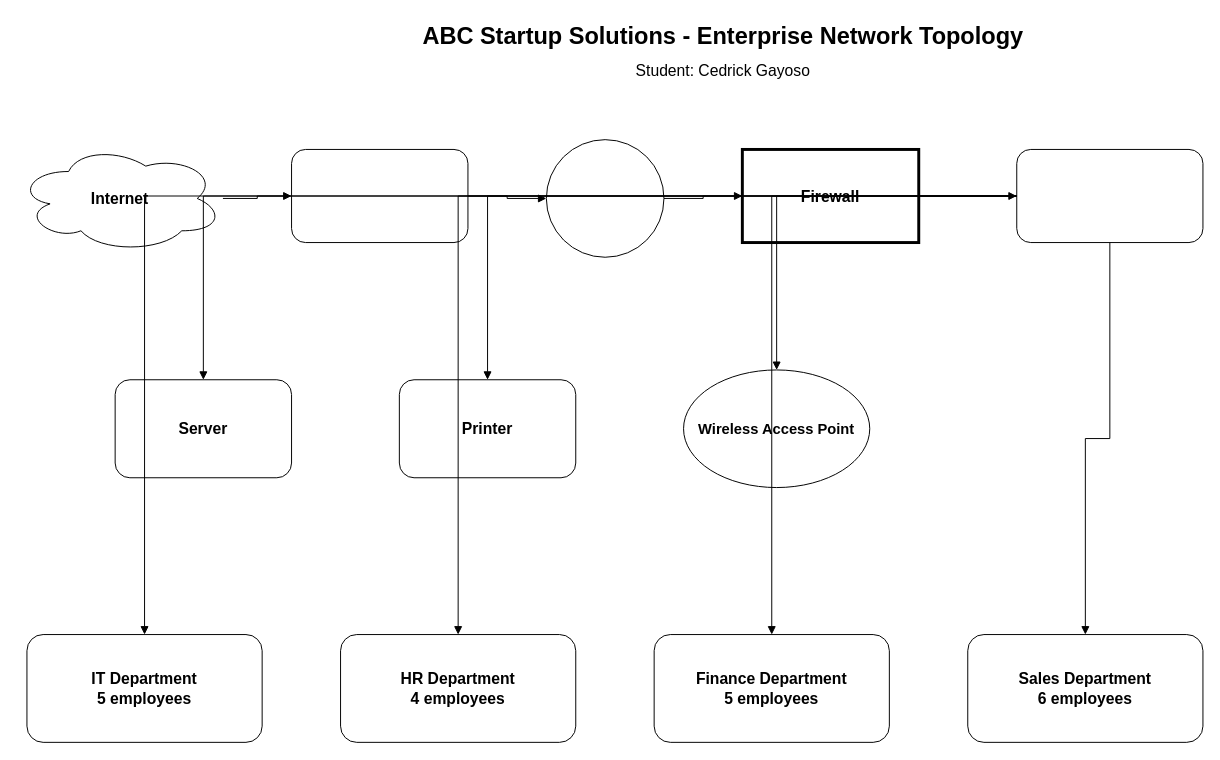
The diagram is 1220 pixels wide and 760 high, and some of its shapes have lost their labels. The centre of each missing label's shape, as x and y in pixels:
"ISP Modem" belongs at point (379, 195).
"Router" belongs at point (604, 198).
"Switch" belongs at point (1109, 195).
